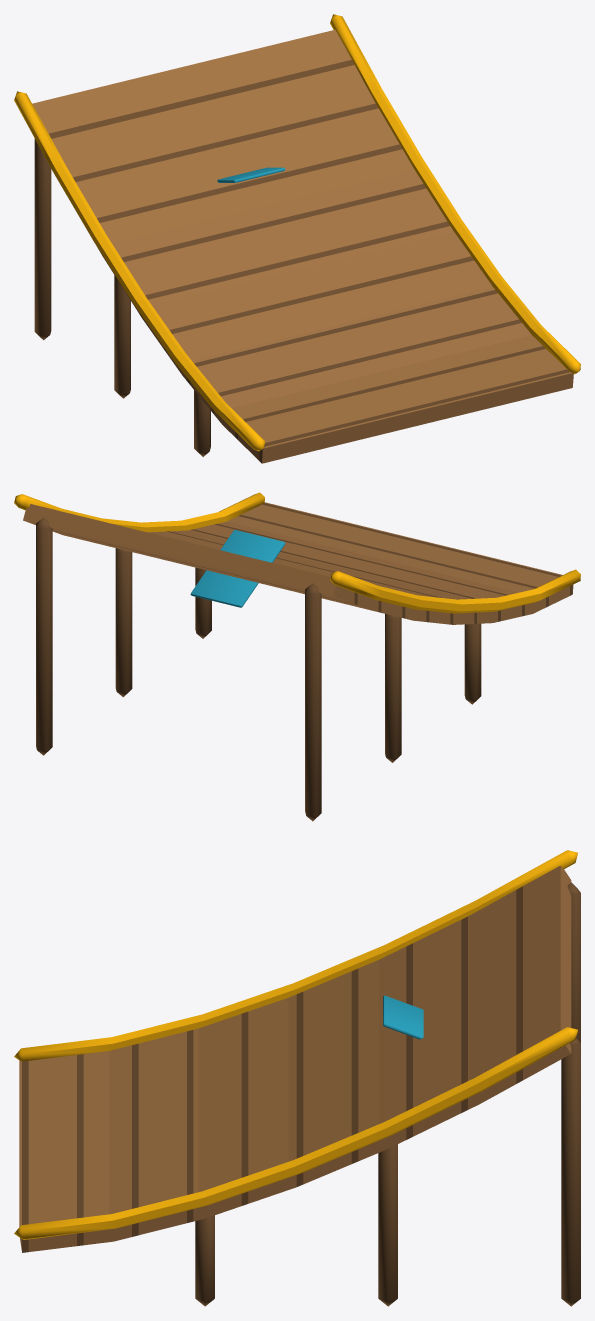
File: W5_Ramp_A.fbx
3 views of the same model, one above another, from view 1: azimuth 30°, elevation 25°; view 2: azimuth 150°, elevation 25°; view 3: azimuth 270°, elevation 25° (orthographic). The views are drawn at different scales.
Parts seen in each view (by area): view 1: W5_Ramp_A; view 2: W5_Ramp_A; view 3: W5_Ramp_A.
Boxes of the visible parts, x1,y1,x2,y2 form: W5_Ramp_A: (14,14,580,463); W5_Ramp_A: (14,492,580,821); W5_Ramp_A: (14,850,580,1306).
Size of the model in its own units: 6.31 by 4.7 by 8.26.
